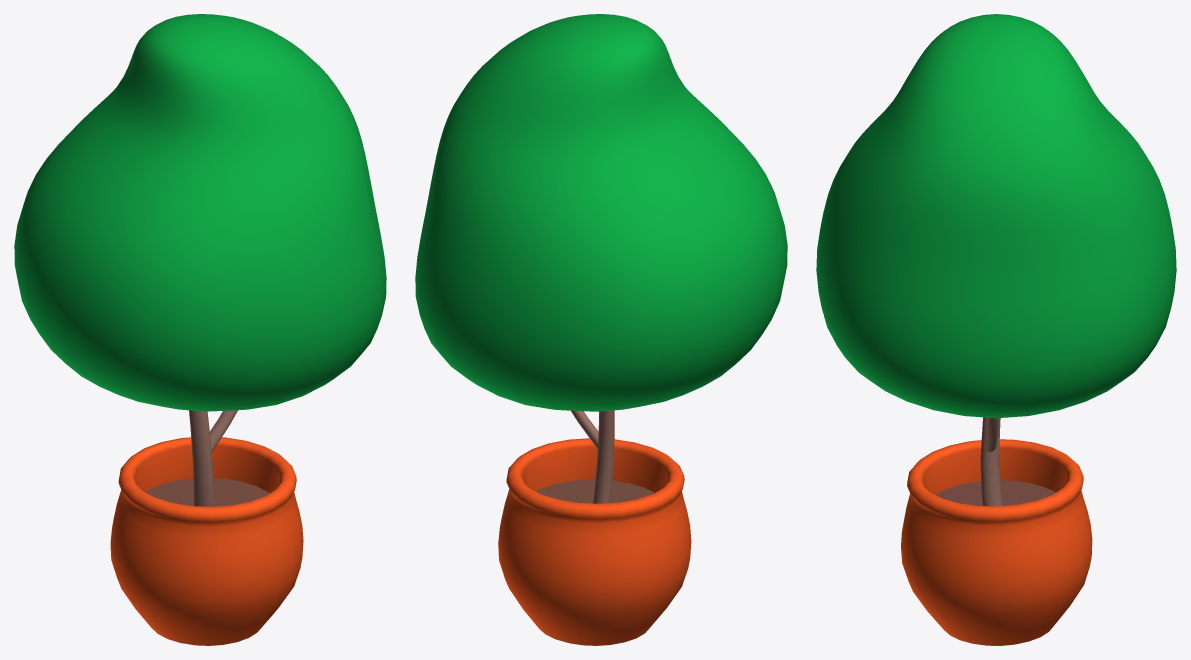
Rendered from City_1_Tree_2.glb.
The picture shows the model from 3 angles, left to right: view 1: azimuth 30°, elevation 25°; view 2: azimuth 150°, elevation 25°; view 3: azimuth 270°, elevation 25°; orthographic projection.
Visible parts, largest first — view 1: City_1_Tree_2; view 2: City_1_Tree_2; view 3: City_1_Tree_2.
Boxes of the visible parts, left/top/right/bottom form: City_1_Tree_2: left=14, top=14, right=386, bottom=645; City_1_Tree_2: left=415, top=14, right=787, bottom=645; City_1_Tree_2: left=816, top=14, right=1176, bottom=645.
Bounding box in the file's own units: 1.43 × 2.61 × 1.43.
Materials: 1 (1 with a texture image).
